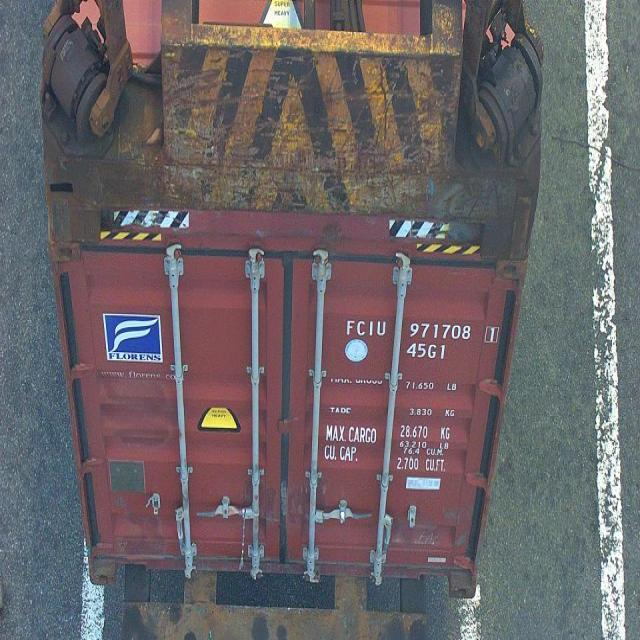ISO: (408, 342, 448, 360)
container_number: (345, 314, 503, 348)
